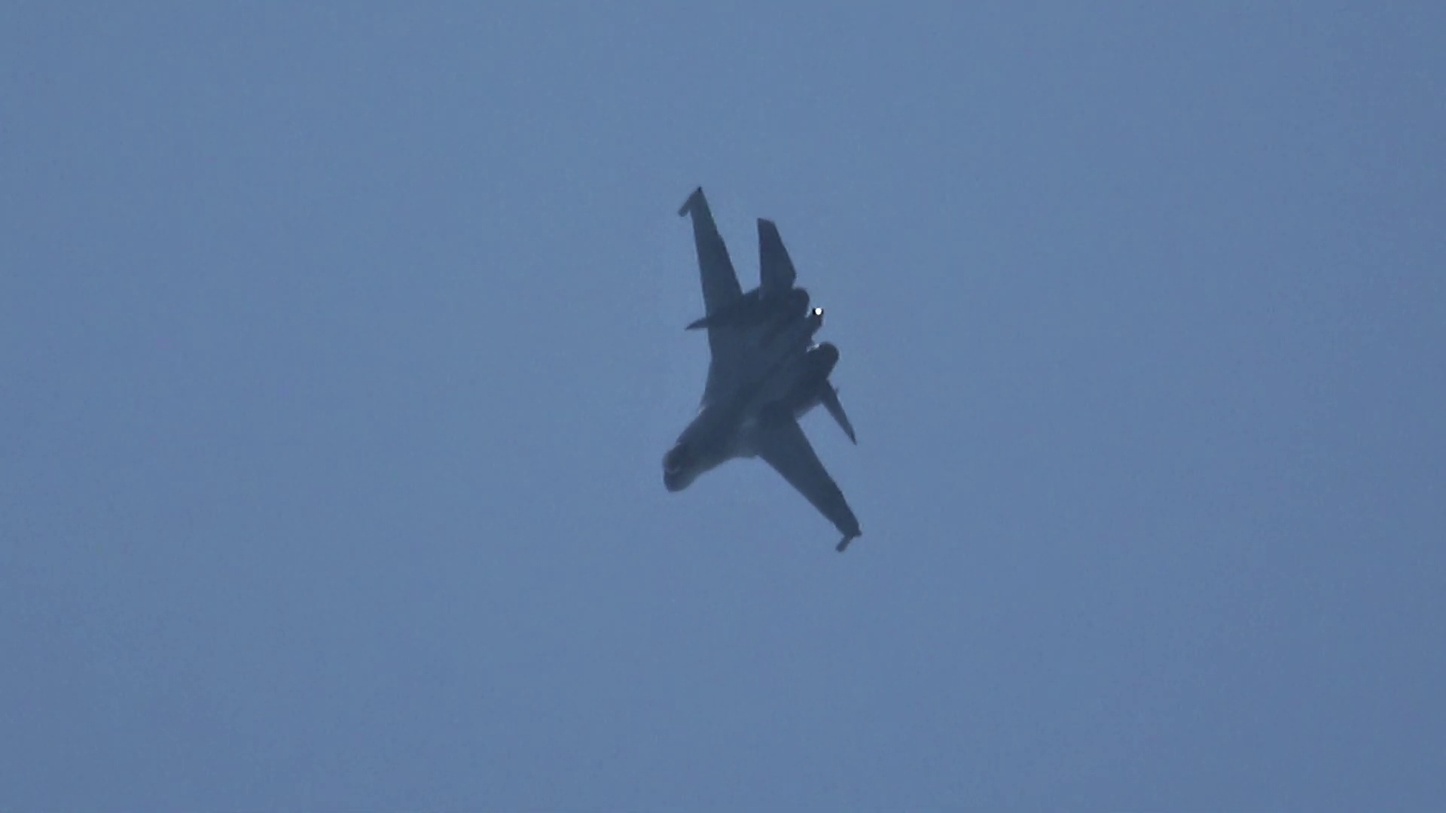Su35: (663, 186, 864, 551)
